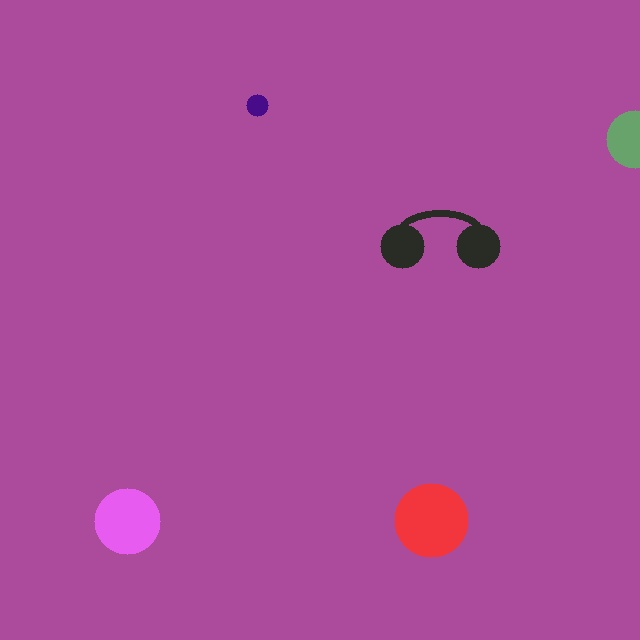over_ear: (376, 197, 504, 272)
